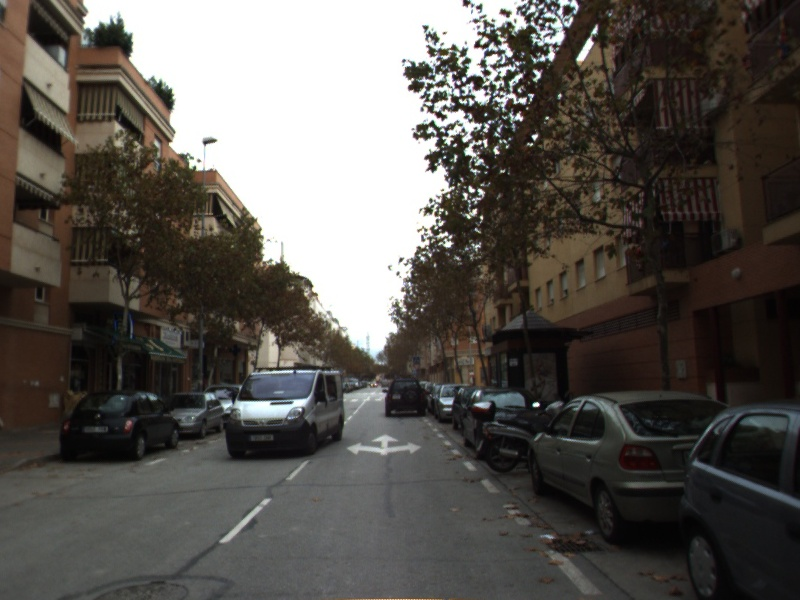STRAIGHT_LEFT_RIGHT: (345, 432, 424, 457)
